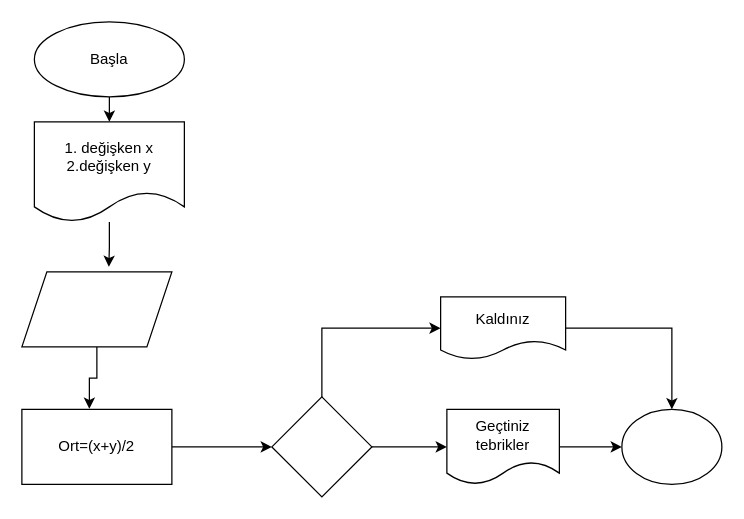
Some shapes in this 744 by 519 pixel diagram are drawn without their labels. The shapes that lost their labels are listed below. From the top down, each one's centre as x and y in pixels, then its label:
At pixel 96 309: "x=55 y=65".
At pixel 321 446: "Ort>=55".
At pixel 671 446: "Bitir".
